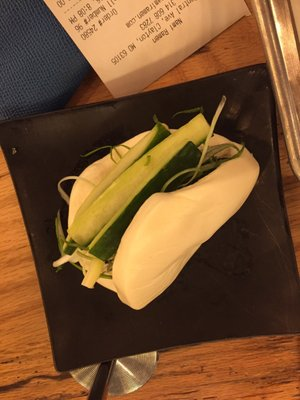pasta: (55, 110, 254, 309), (57, 108, 221, 278)
